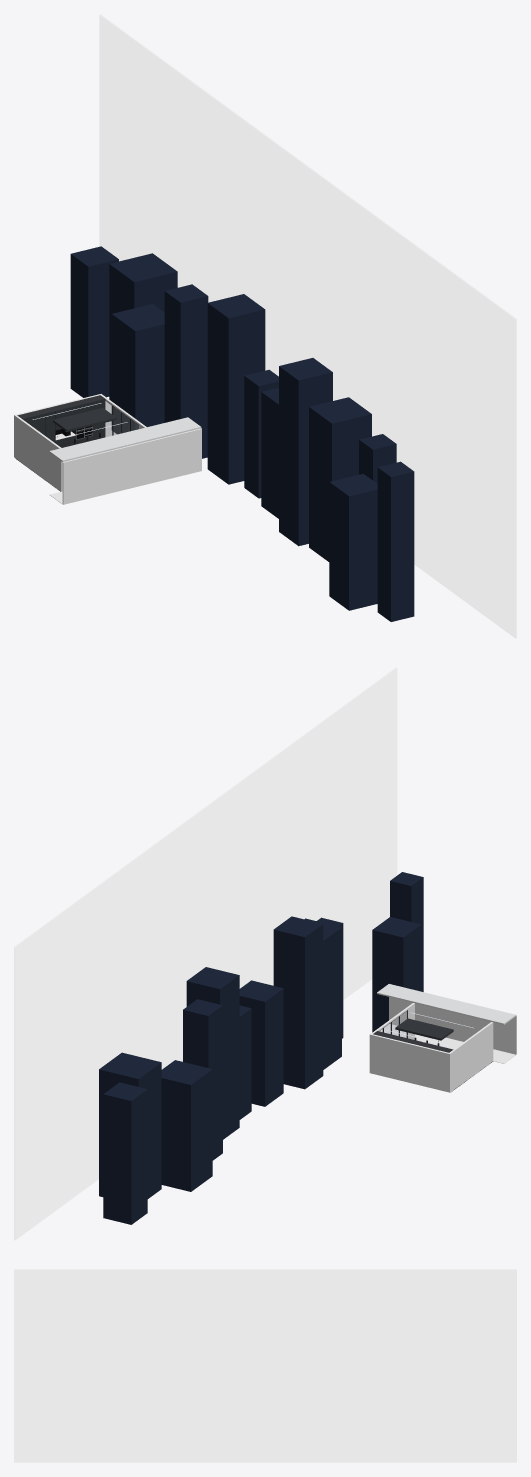
The model's file is rich-kitchen-hitech.glb.
The picture shows the model from 3 angles, top to bottom: view 1: azimuth 30°, elevation 25°; view 2: azimuth 150°, elevation 25°; view 3: azimuth 270°, elevation 25°; orthographic projection. The views are drawn at different scales.
Parts seen in each view (by area): view 1: Фон за окном, Дом вдали.007, Дом вдали.004, Дом вдали.009, Дом вдали.001, Коридор стена, Дом вдали.008, Дом вдали.011, Дом вдали.003, Дом вдали, Дом вдали.010, Дом вдали.006 (+5 smaller); view 2: Фон за окном, Дом вдали.004, Дом вдали.009, Дом вдали.011, Дом вдали.005, Дом вдали.010, Дом вдали.001, Дом вдали.007, Дом вдали.008, Стена задняя, Дом вдали.003, Коридор стена (+6 smaller); view 3: Фон за окном.
Part boxes in pixels (bbox=[...]): Фон за окном: bbox=[99, 14, 516, 638]; Дом вдали.007: bbox=[207, 294, 265, 484]; Дом вдали.004: bbox=[279, 358, 332, 546]; Дом вдали.009: bbox=[111, 304, 164, 434]; Дом вдали.001: bbox=[329, 473, 377, 610]; Коридор стена: bbox=[62, 428, 201, 504]; Дом вдали.008: bbox=[164, 284, 208, 458]; Дом вдали.011: bbox=[70, 246, 118, 397]; Дом вдали.003: bbox=[309, 397, 371, 561]; Дом вдали: bbox=[377, 461, 414, 621]; Дом вдали.010: bbox=[109, 253, 177, 400]; Дом вдали.006: bbox=[244, 369, 278, 498]; Фон за окном: bbox=[14, 667, 397, 1240]; Дом вдали.004: bbox=[273, 916, 323, 1089]; Дом вдали.009: bbox=[161, 1060, 212, 1191]; Дом вдали.011: bbox=[103, 1082, 147, 1224]; Дом вдали.005: bbox=[239, 980, 283, 1106]; Дом вдали.010: bbox=[99, 1052, 161, 1198]; Дом вдали.001: bbox=[372, 917, 421, 1032]; Дом вдали.007: bbox=[186, 967, 239, 1139]; Дом вдали.008: bbox=[183, 999, 222, 1160]; Стена задняя: bbox=[369, 1034, 450, 1092]; Дом вдали.003: bbox=[304, 918, 341, 1069]; Коридор стена: bbox=[389, 997, 516, 1054]; Фон за окном: bbox=[14, 1269, 516, 1462].
Bounding box in the file's own units: 21.1 × 22 × 52.
